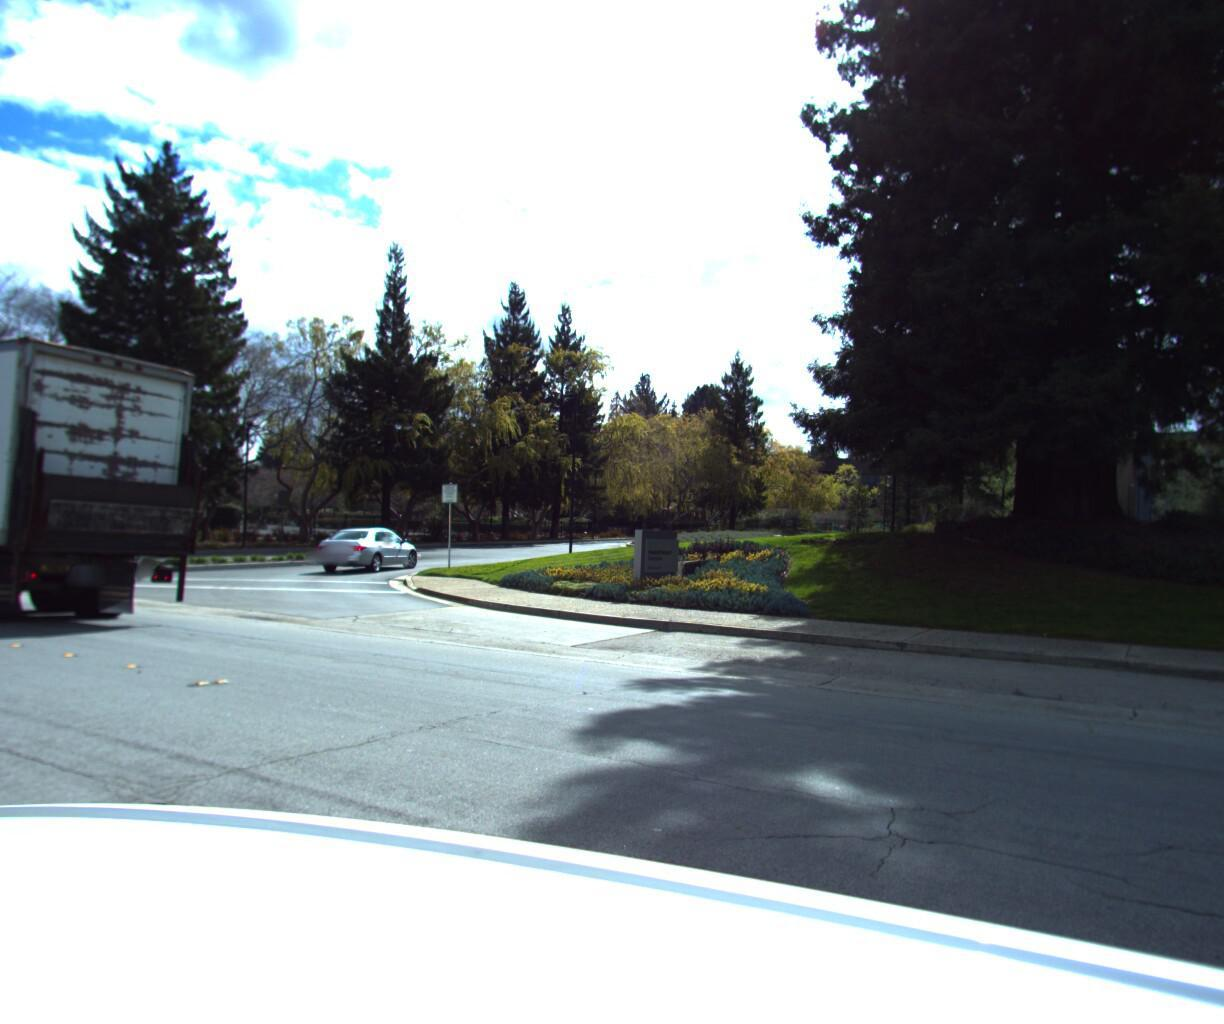car: (311, 529, 426, 581)
truck: (0, 299, 234, 646)
